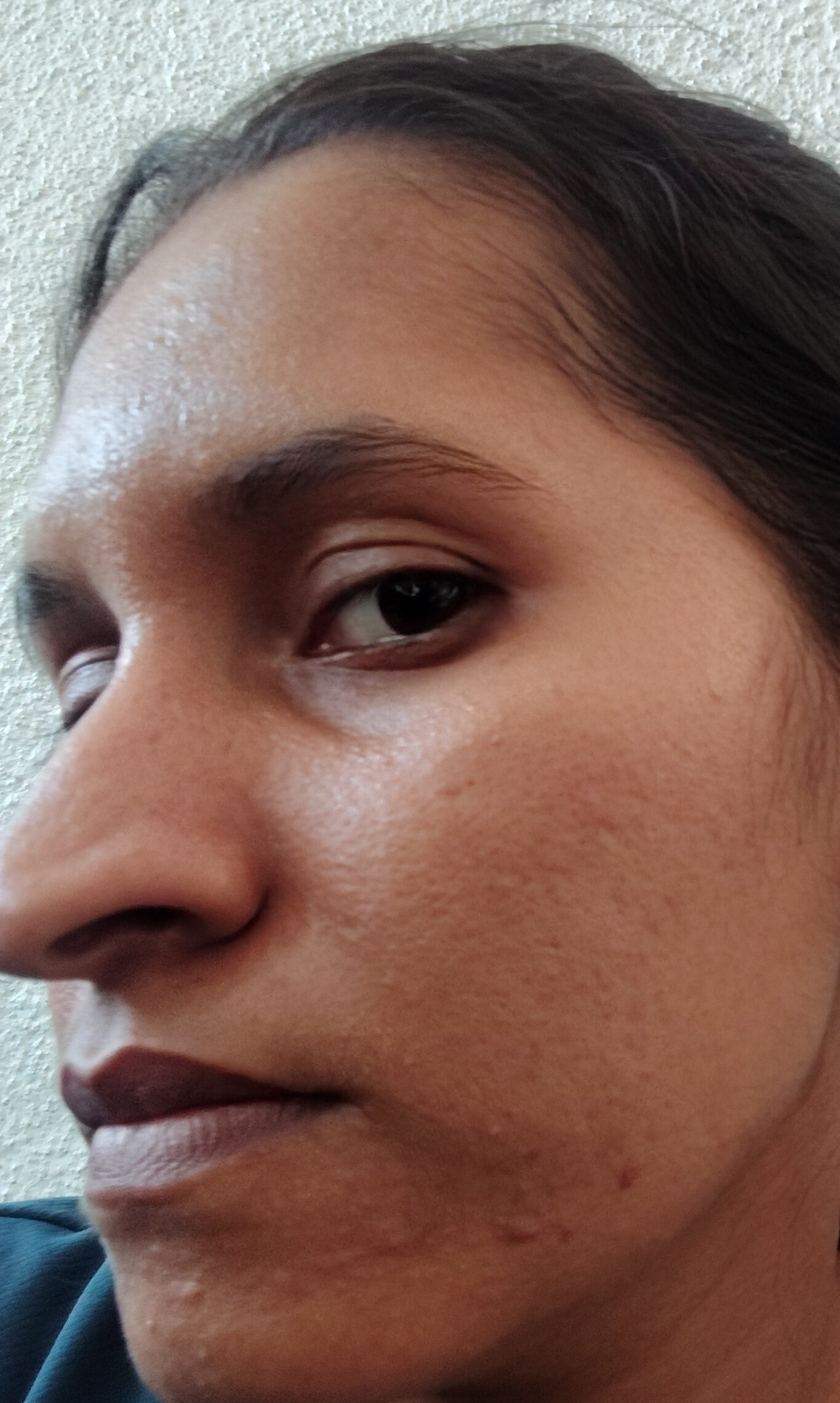papule: (481, 1191, 539, 1275), (606, 1149, 669, 1219), (185, 1263, 241, 1323)
